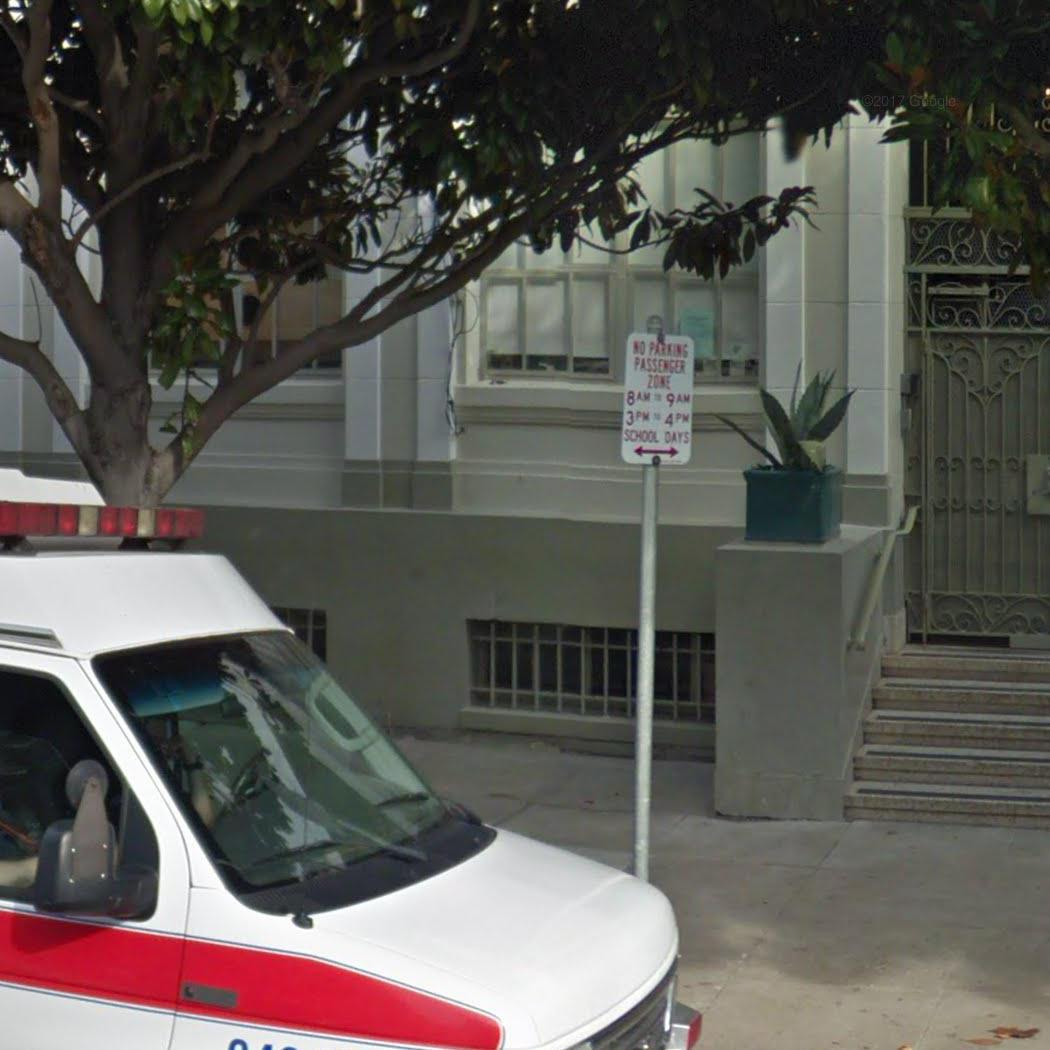No Parking: (623, 333, 696, 469)
